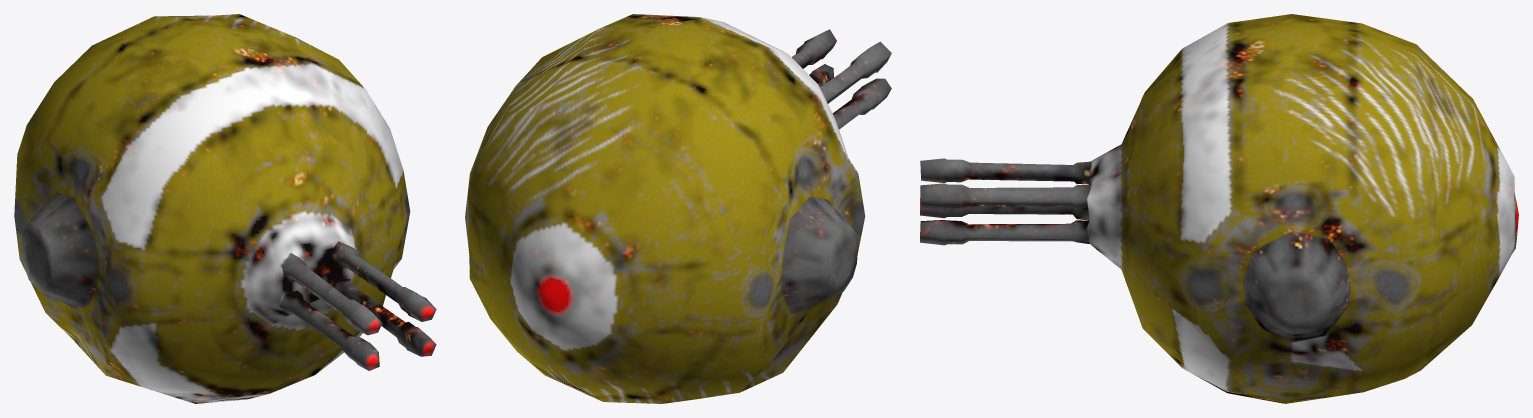
Rendered from TurretUVSphere.fbx.
3 views of the same model, side by side, from view 1: azimuth 30°, elevation 25°; view 2: azimuth 150°, elevation 25°; view 3: azimuth 270°, elevation 25° (orthographic).
Parts seen in each view (by area): view 1: polySurface1; view 2: polySurface1; view 3: polySurface1.
Boxes of the visible parts, x1,y1,x2,y2 form: polySurface1: (14, 14, 436, 403); polySurface1: (465, 14, 891, 403); polySurface1: (920, 14, 1518, 403).
Bounding box in the file's own units: 48.27 × 45.73 × 70.56.
